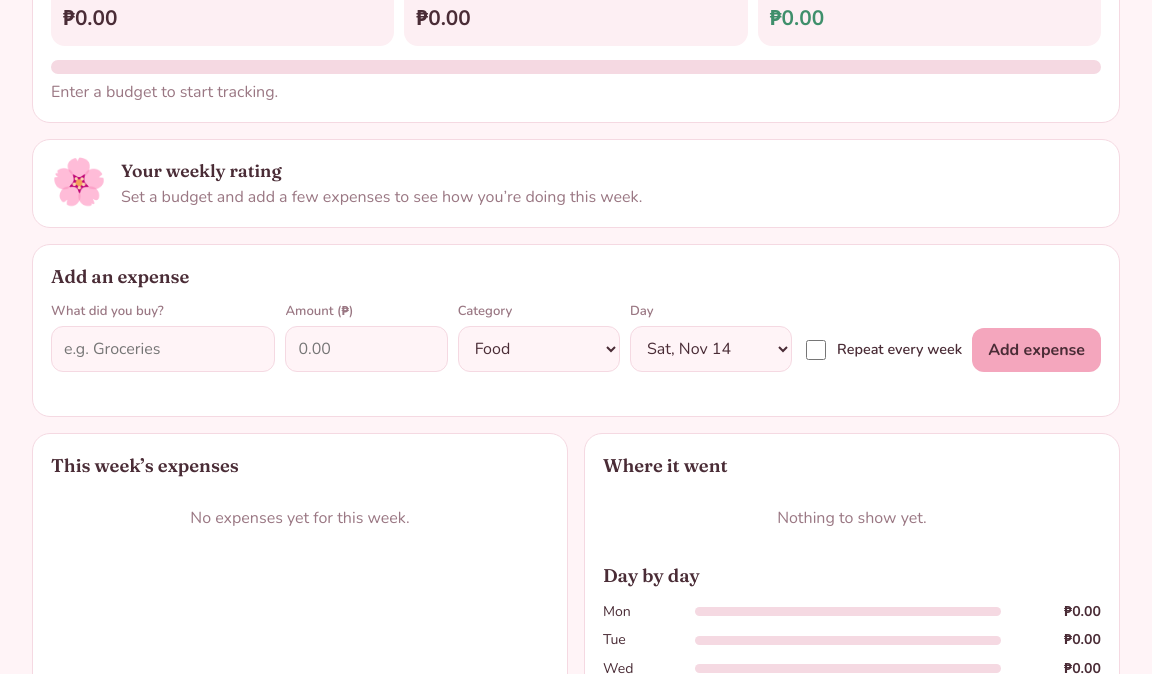
Test: App › edits an expense
The width and height of the screenshot is (1152, 674).
(page scrolled)
Type "Taxi" into the field labelled "What did you buy?" at (163, 349), box [51, 326, 275, 372]
Type "200" into the number field with id "amt" at (366, 349), box [285, 326, 448, 372]
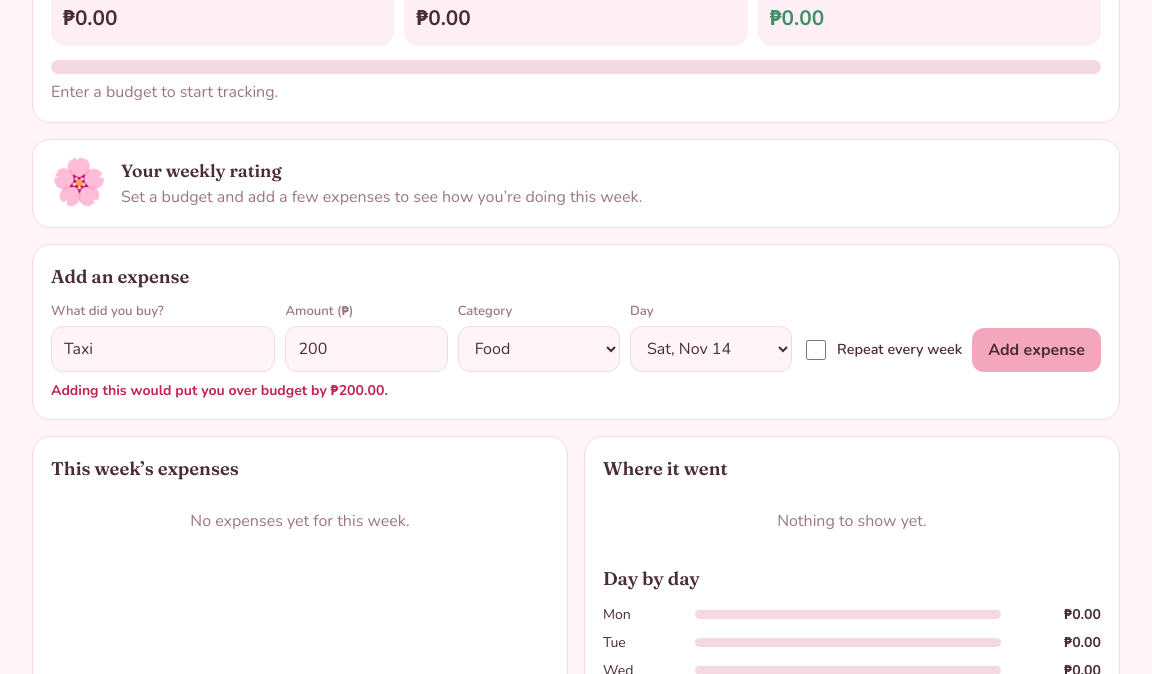
Click the button "Add expense" at (1037, 350), box [972, 328, 1101, 372]
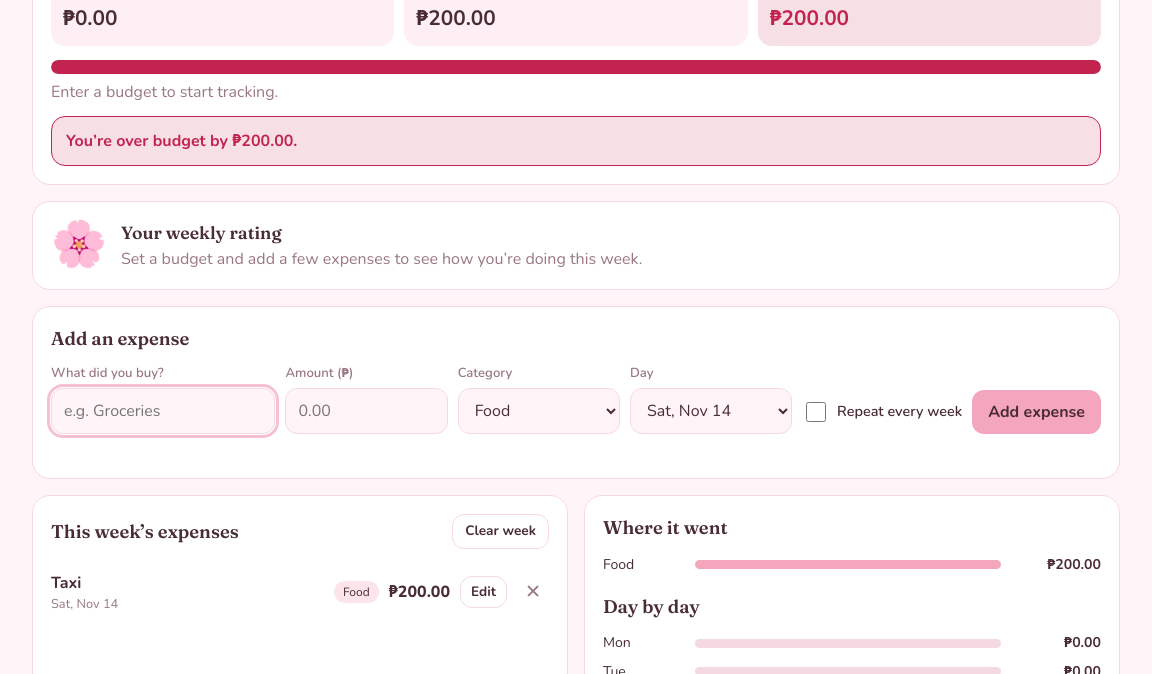
Click the button with aria-label "Edit Taxi" at (483, 592), box [460, 576, 507, 608]
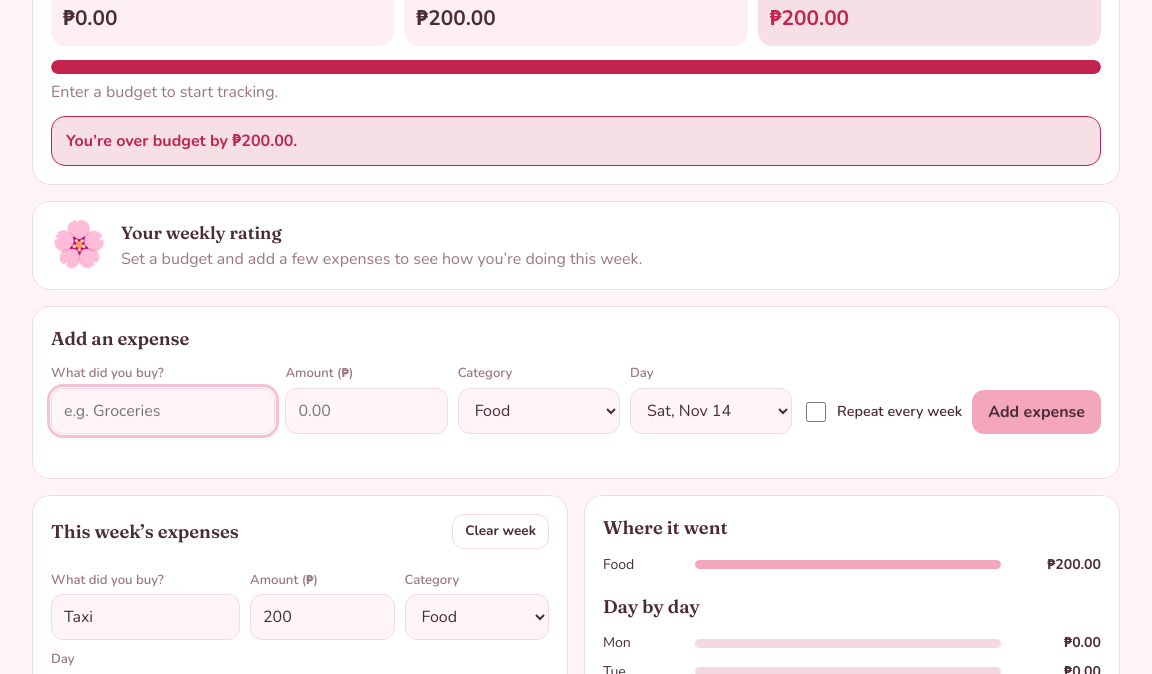
Replace the text in the field with id "edit-name" with "Grab" at (146, 617), box [51, 594, 240, 640]
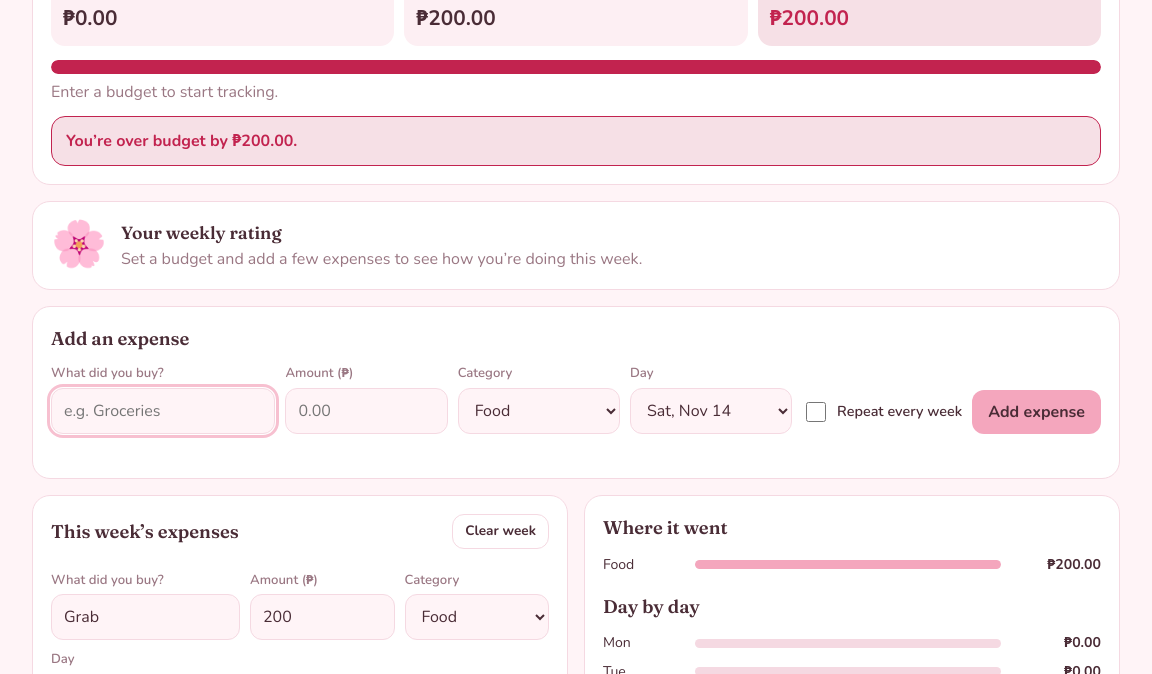
Replace the text in the number field with id "edit-amt" with "250" at (322, 617), box [250, 594, 394, 640]
(page scrolled)
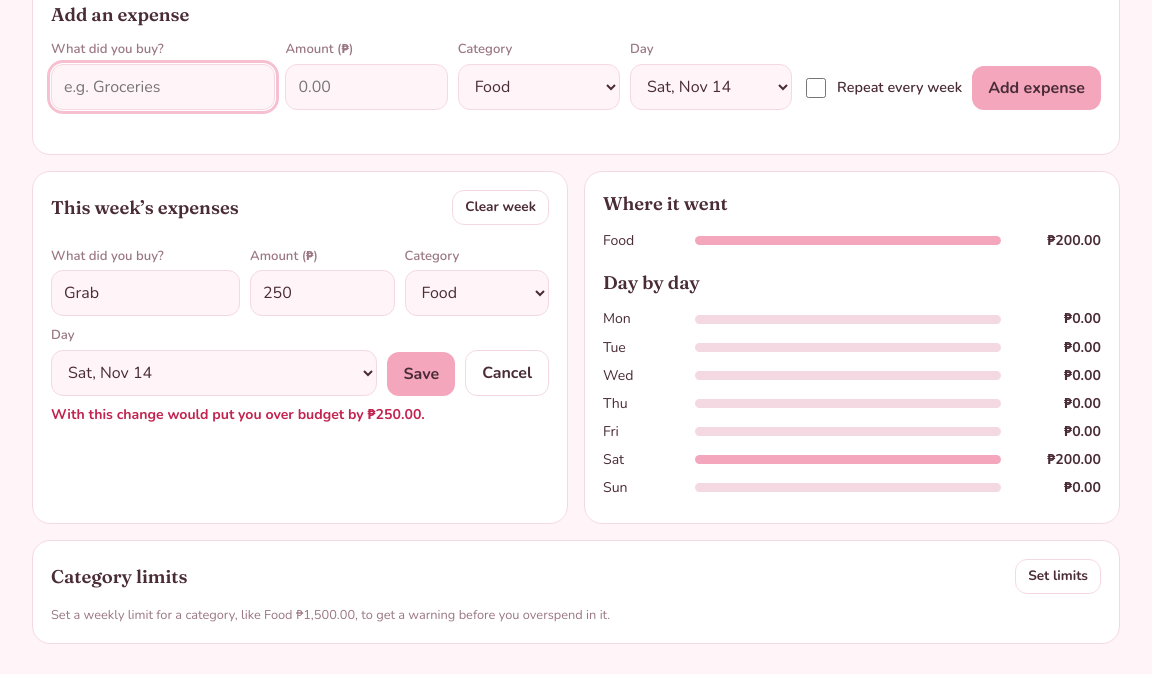
Click the button "Save" at (421, 374), box [387, 352, 455, 396]
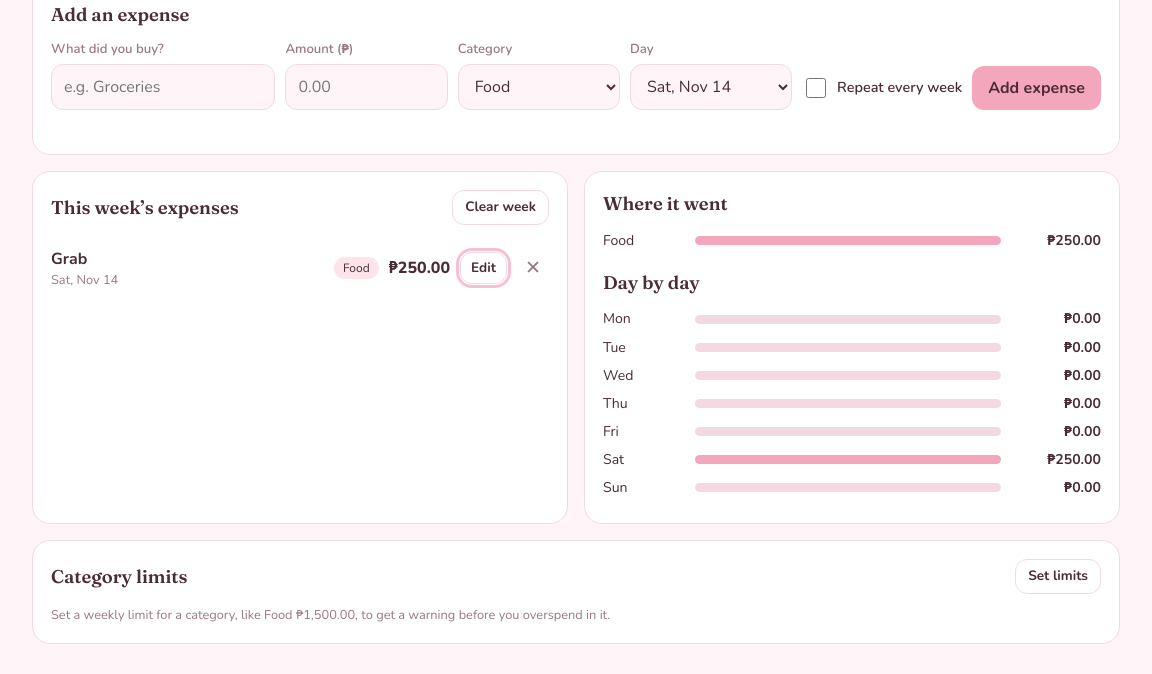
Expected: the text "Taxi" is not shown
Expected: the text "Grab" is shown, [51, 248, 87, 270]
